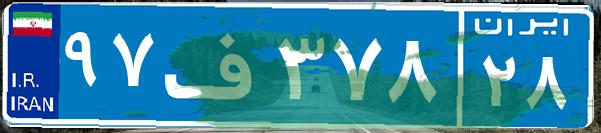2: (475, 38, 525, 113)
3: (273, 28, 330, 110)
7: (330, 28, 385, 110), (110, 28, 158, 105)
8: (385, 28, 445, 110), (525, 38, 570, 115)
9: (57, 26, 110, 107)
ف: (158, 15, 273, 115)
